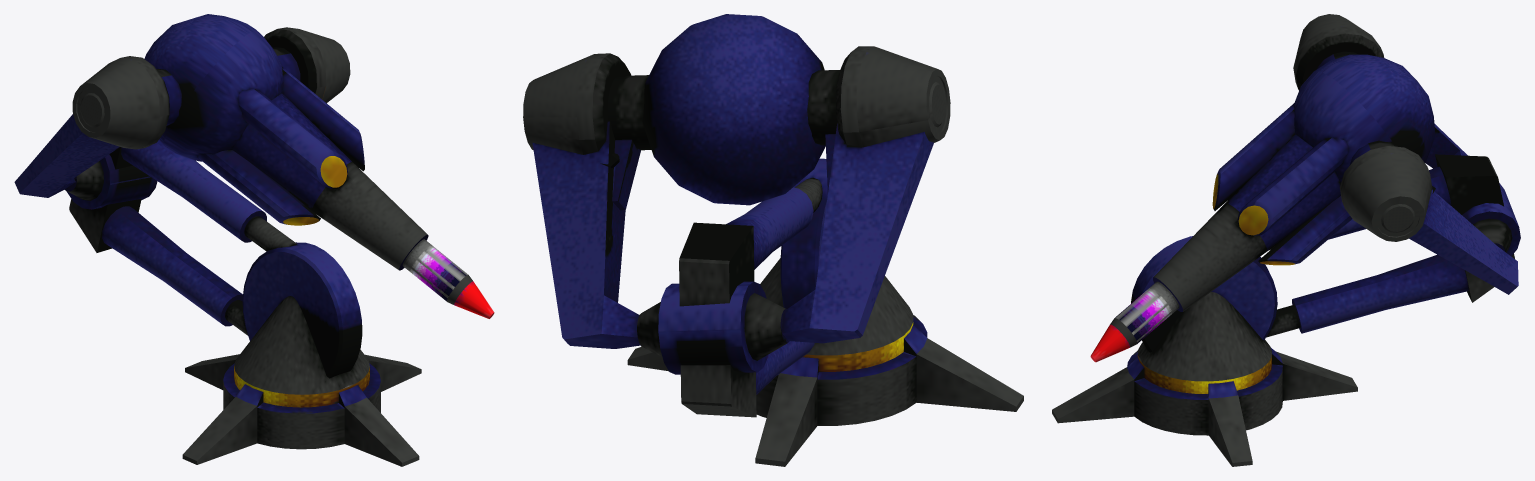
Rendered from npc_hopper_000112.obj.
3 views of the same model, side by side, from view 1: azimuth 30°, elevation 25°; view 2: azimuth 150°, elevation 25°; view 3: azimuth 270°, elevation 25° (orthographic). The views are drawn at different scales.
Parts seen in each view (by area): view 1: npc_hopper_npc_hopper_mesh; view 2: npc_hopper_npc_hopper_mesh; view 3: npc_hopper_npc_hopper_mesh.
Boxes of the visible parts, x1,y1,x2,y2 form: npc_hopper_npc_hopper_mesh: (14,14,494,466); npc_hopper_npc_hopper_mesh: (523,14,1023,466); npc_hopper_npc_hopper_mesh: (1052,14,1520,466).
Size of the model in its own units: 1.37 by 1.52 by 1.92.
